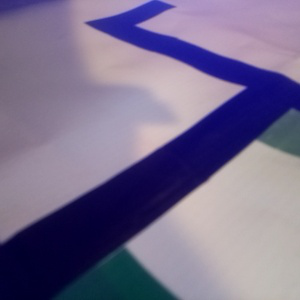bottom_right: (1, 243, 178, 299), (246, 82, 299, 157)
